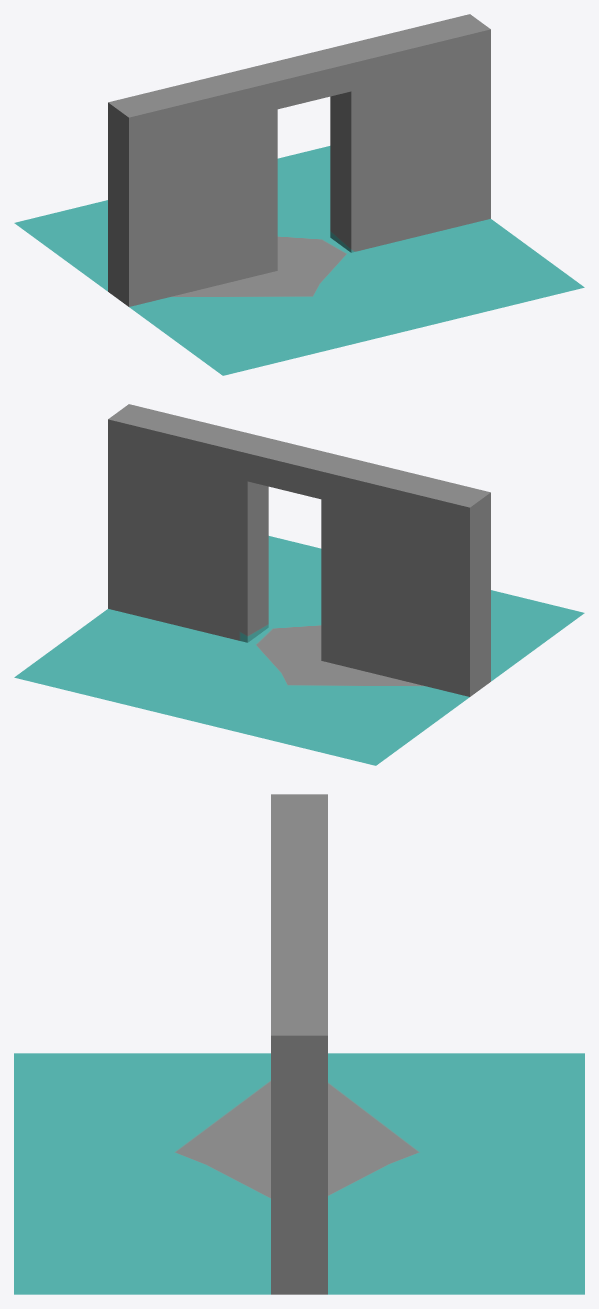
Rendered from SM_Muur_Reg.fbx.
3 views of the same model, one above another, from view 1: azimuth 30°, elevation 25°; view 2: azimuth 150°, elevation 25°; view 3: azimuth 270°, elevation 25° (orthographic). The views are drawn at different scales.
Visible parts, largest first — view 1: SM_Muur_Reg; view 2: SM_Muur_Reg; view 3: SM_Muur_Reg.
Boxes of the visible parts, x1,y1,x2,y2 form: SM_Muur_Reg: (14, 14, 584, 375); SM_Muur_Reg: (14, 404, 584, 765); SM_Muur_Reg: (14, 794, 584, 1294).
Bounding box in the file's own units: 500 × 250 × 500.
Materials: 1 (1 with a texture image).
